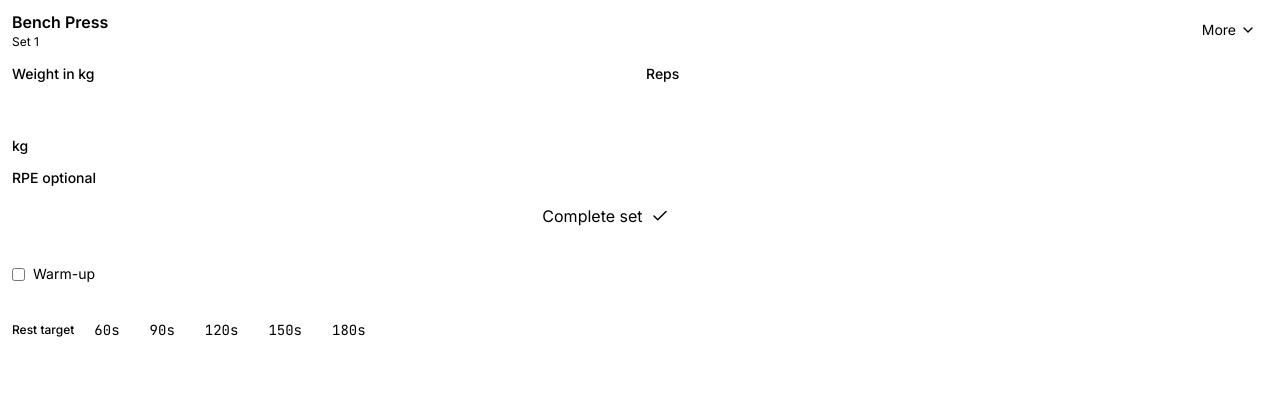
it: per-exercise rest target consumer wiring › applies a mid-rest choice to the counted target without restarting elapsed time
The width and height of the screenshot is (1280, 404).
What coordinates should you click on to do the following:
click the button "Complete set"
I would click on:
 (592, 216)
Its box is [542,192,1268,240].
Wait 30000 ms
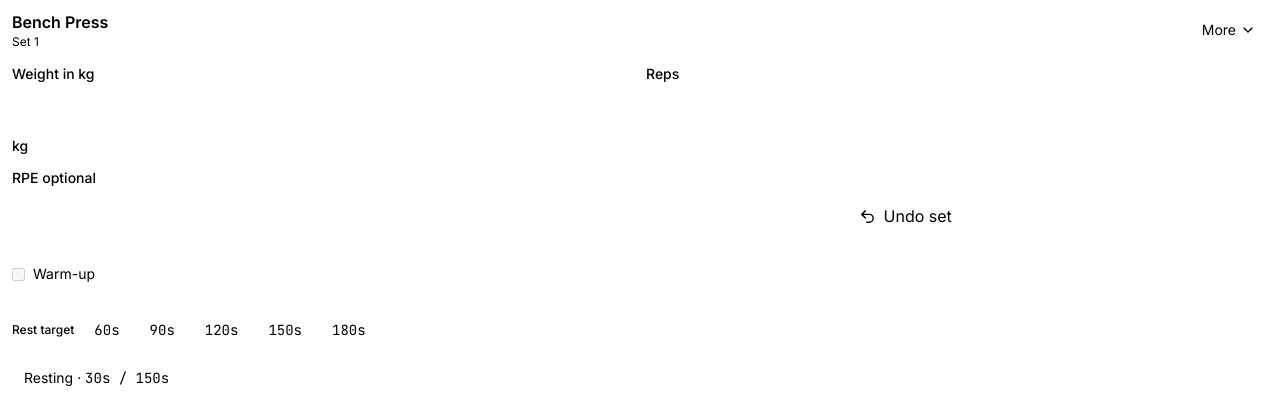
Expected: the element showing "Resting · 30s / 150s" is shown, [24,369,169,387]
What coordinates should you click on to do the following:
click the radio button labelled "60s"
I would click on:
 (107, 330)
Its box is [82,308,132,352].
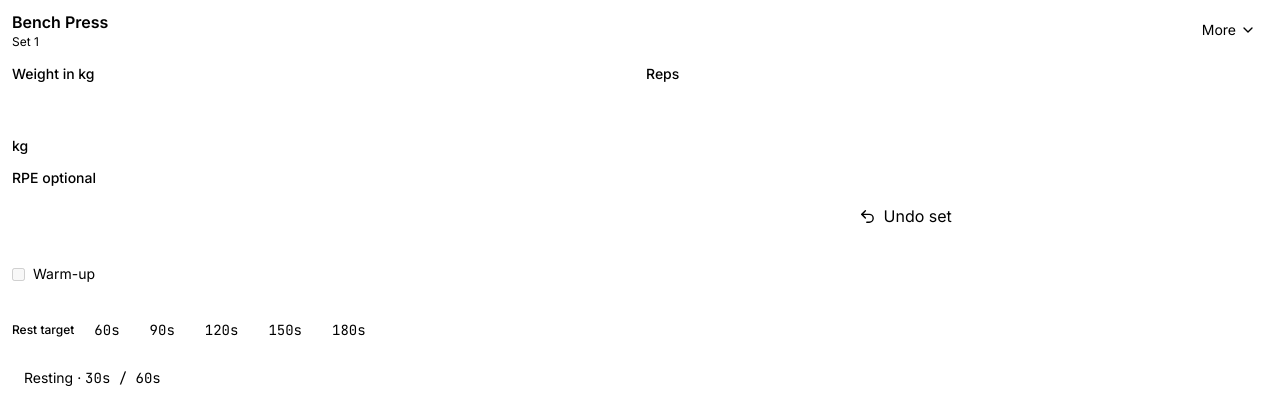
Expected: the element showing "Resting · 30s / 60s" is shown, [24,369,161,387]
